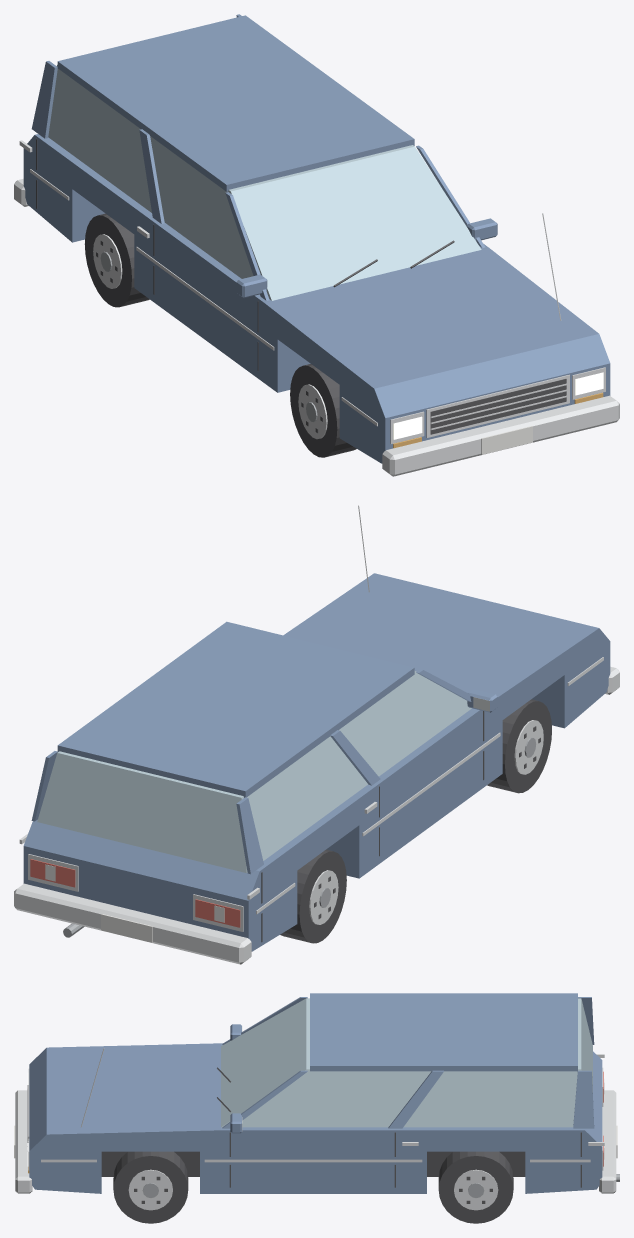
The model's file is car_wagon_b.glb.
The picture shows the model from 3 angles, top to bottom: view 1: azimuth 30°, elevation 25°; view 2: azimuth 150°, elevation 25°; view 3: azimuth 270°, elevation 25°; orthographic projection. The views are drawn at different scales.
Visible parts, largest first — view 1: car_wagon_b_car_b, car_wagon_b_glass, car_wagon_b_chrome, car_wagon_b_rubber, car_wagon_b_dark, car_wagon_b_lamp_glass, car_wagon_b_paint_w; view 2: car_wagon_b_car_b, car_wagon_b_glass, car_wagon_b_chrome, car_wagon_b_rubber, car_wagon_b_neon_r, car_wagon_b_paint_w; view 3: car_wagon_b_car_b, car_wagon_b_glass, car_wagon_b_rubber, car_wagon_b_chrome, car_wagon_b_dark, car_wagon_b_steel.
Part boxes in pixels (bbox=[...]): car_wagon_b_car_b: bbox=[23, 14, 610, 463]; car_wagon_b_glass: bbox=[48, 64, 481, 300]; car_wagon_b_chrome: bbox=[14, 140, 619, 476]; car_wagon_b_rubber: bbox=[84, 213, 356, 457]; car_wagon_b_dark: bbox=[36, 138, 566, 434]; car_wagon_b_lamp_glass: bbox=[393, 372, 603, 439]; car_wagon_b_paint_w: bbox=[481, 426, 532, 454]; car_wagon_b_car_b: bbox=[23, 573, 610, 951]; car_wagon_b_glass: bbox=[37, 671, 471, 872]; car_wagon_b_chrome: bbox=[14, 505, 619, 964]; car_wagon_b_rubber: bbox=[280, 699, 551, 943]; car_wagon_b_neon_r: bbox=[30, 859, 240, 927]; car_wagon_b_paint_w: bbox=[45, 864, 224, 942]; car_wagon_b_car_b: bbox=[29, 993, 602, 1193]; car_wagon_b_glass: bbox=[221, 998, 592, 1127]; car_wagon_b_rubber: bbox=[101, 1151, 525, 1223]; car_wagon_b_chrome: bbox=[15, 1048, 616, 1210]; car_wagon_b_dark: bbox=[27, 1067, 581, 1203]; car_wagon_b_steel: bbox=[142, 1174, 619, 1197].
Bounding box in the file's own units: 2 × 1.6 × 5.18.
